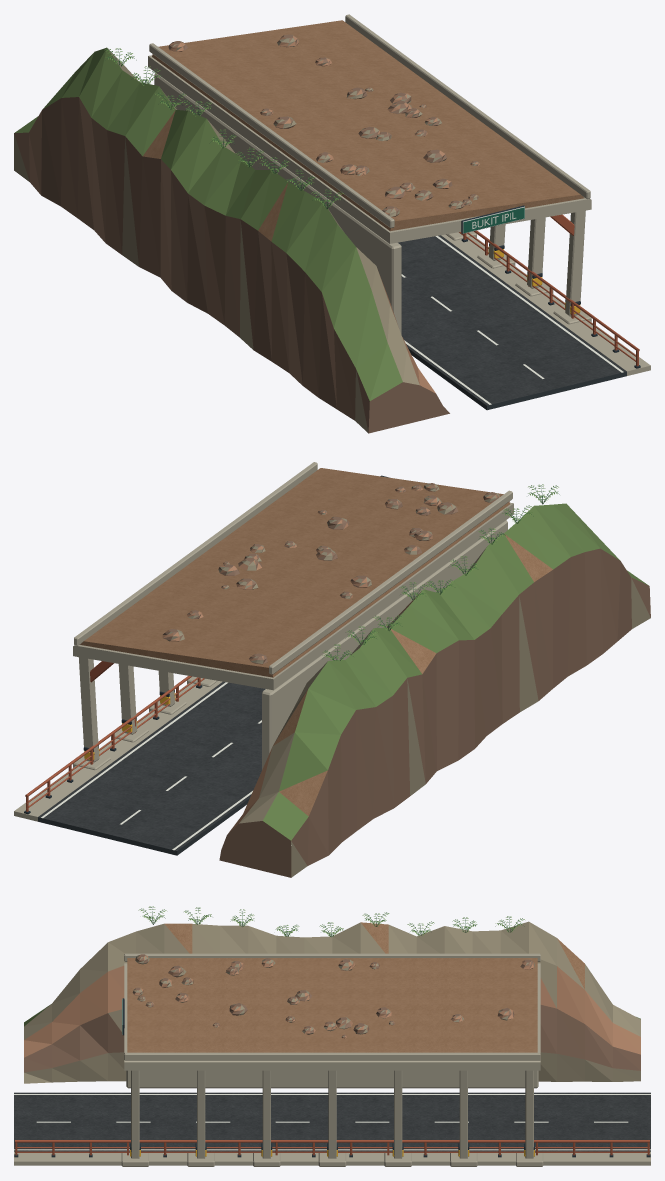
The picture shows the model from 3 angles, top to bottom: view 1: azimuth 30°, elevation 25°; view 2: azimuth 150°, elevation 25°; view 3: azimuth 270°, elevation 25°; orthographic projection. The views are drawn at different scales.
Parts seen in each view (by area): view 1: Fractured cut slope, Gravel impact cushion, Carriageway, Upstand coping, Retaining stem, Impact roof, Rockfall debris, Rail foundation, Tapered gallery bents, Cut top ferns, Continuous handrails, Gallery foundations (+2 smaller); view 2: Fractured cut slope, Gravel impact cushion, Carriageway, Impact roof, Upstand coping, Retaining stem, Rockfall debris, Rail foundation, Tapered gallery bents, Cut top ferns, Continuous handrails, Gallery foundations (+1 smaller); view 3: Gravel impact cushion, Carriageway, Fractured cut slope, Retaining stem, Upstand coping, Rail foundation, Tapered gallery bents, Impact roof, Continuous handrails, Rockfall debris, Gallery foundations, Edge paint (+3 smaller).
Boxes of the visible parts, x1,y1,x2,y2 form: Fractured cut slope: (14,47,449,433); Gravel impact cushion: (152,20,584,231); Carriageway: (398,235,626,410); Upstand coping: (149,14,590,227); Retaining stem: (154,73,401,334); Impact roof: (148,55,591,243); Rockfall debris: (168,34,479,216); Rail foundation: (441,234,650,375); Tapered gallery bents: (489,210,585,316); Cut top ferns: (104,48,343,208); Continuous handrails: (459,230,639,363); Gallery foundations: (446,231,591,324); Fractured cut slope: (219,503,650,877); Gravel impact cushion: (80,468,509,677); Carriageway: (38,681,265,855); Impact roof: (73,502,513,690); Upstand coping: (74,462,512,674); Retaining stem: (262,520,507,769); Rockfall debris: (162,483,500,664); Rail foundation: (14,681,222,821); Tapered gallery bents: (78,657,174,762); Cut top ferns: (322,484,559,660); Continuous handrails: (25,676,204,809); Gallery foundations: (73,676,217,770); Gravel impact cushion: (127,958,537,1052); Carriageway: (14,1092,650,1151); Fractured cut slope: (24,921,640,1083); Retaining stem: (126,1070,538,1088); Upstand coping: (124,953,540,1060); Rail foundation: (14,1151,650,1165); Tapered gallery bents: (131,1070,533,1158); Impact roof: (124,963,540,1070); Continuous handrails: (15,1140,649,1152); Rockfall debris: (132,954,534,1038); Gallery foundations: (121,1153,543,1166); Edge paint: (14,1094,650,1150).
Bounding box in the file's own units: 14.18 × 8.41 × 32.
Materials: 17 (2 with a texture image).
